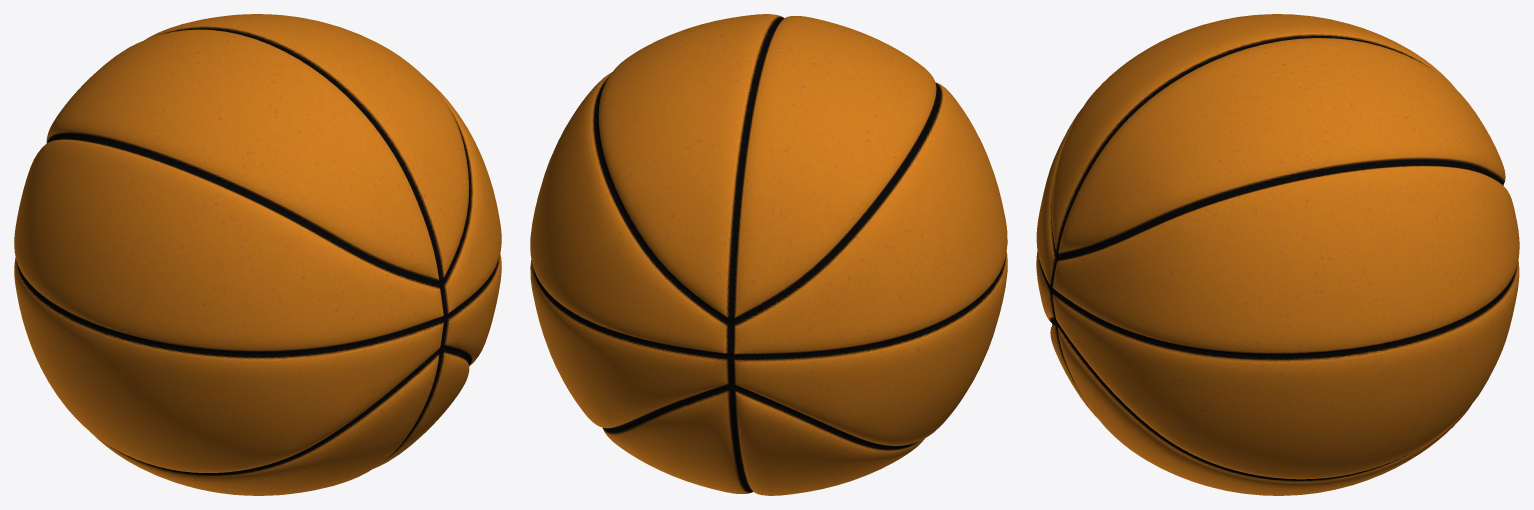
The model's file is 3d_sports_basket_ball_game_asset_pbr_model.glb.
3 views of the same model, side by side, from view 1: azimuth 30°, elevation 25°; view 2: azimuth 150°, elevation 25°; view 3: azimuth 270°, elevation 25° (orthographic).
Visible parts, largest first — view 1: basket ball; view 2: basket ball; view 3: basket ball.
Part boxes in pixels (<box>): basket ball: <box>14,14,501,495</box>; basket ball: <box>530,14,1007,495</box>; basket ball: <box>1036,14,1519,495</box>.
Bounding box in the file's own units: 0.2854 × 0.2837 × 0.2858.
1 material, 1 textured.
